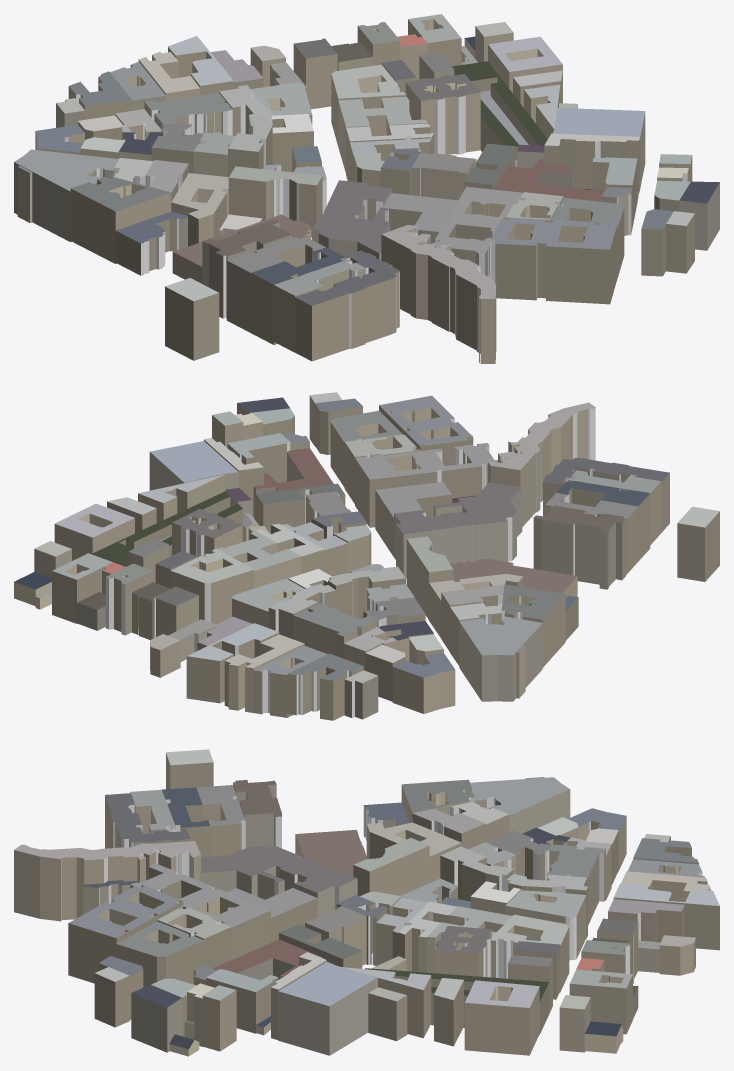
3 views of the same model, one above another, from view 1: azimuth 30°, elevation 25°; view 2: azimuth 150°, elevation 25°; view 3: azimuth 270°, elevation 25° (orthographic). The views are drawn at different scales.
Parts seen in each view (by area): view 1: tuile; view 2: tuile; view 3: tuile.
Boxes of the visible parts, x1=… form: tuile: x1=14, y1=14, x2=719, y2=363; tuile: x1=14, y1=392, x2=719, y2=720; tuile: x1=14, y1=749, x2=719, y2=1056.
Size of the model in its own units: 261 by 34.72 by 307.
